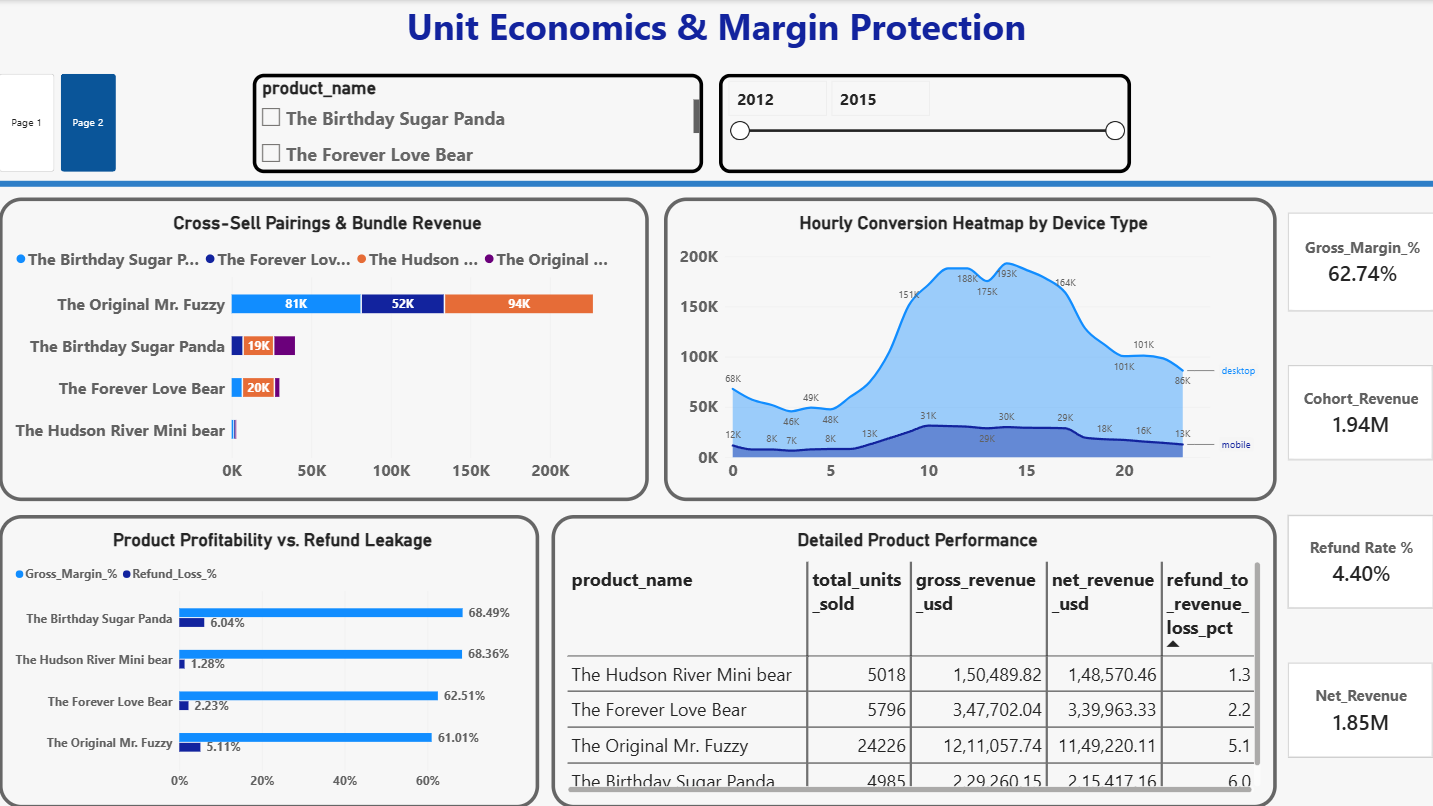

The page's visual inventory and layout, read from the dashboard file:
{"tool":"powerbi","page":{"name":"Page 2","canvas":[1920,1080],"ordinal":1},"visuals":[{"type":"cardVisual","fields":{"Data":["ALL_MEASURES.Refund_Leakage_%"]},"box":[1720.9,687.9,195.1,125.2],"z":0},{"type":"cardVisual","fields":{"Data":["ALL_MEASURES.Cohort_Revenue"]},"box":[1720.9,488.3,194.8,127.7],"z":1000},{"type":"cardVisual","fields":{"Data":["ALL_MEASURES.Net_Revenue"]},"box":[1721.5,885,194.8,127.7],"z":2000},{"type":"cardVisual","fields":{"Data":["ALL_MEASURES.Gross_Margin_%"]},"box":[1721.5,283.9,198.8,132.5],"z":3000},{"type":"clusteredBarChart","title":"Product Profitability vs. Refund Leakage","fields":{"Category":["vw_custom_product_refund_leakage.product_name"],"Y":["ALL_MEASURES.Gross_Margin_%","ALL_MEASURES.Refund_Loss_%"]},"box":[0,688.3,721.5,392],"z":4000},{"type":"tableEx","title":"Detailed Product Performance","fields":{"Values":["vw_custom_product_refund_leakage.product_name","vw_custom_product_refund_leakage.total_units_sold","vw_custom_product_refund_leakage.gross_revenue_usd","vw_custom_product_refund_leakage.net_revenue_usd","vw_custom_product_refund_leakage.refund_to_revenue_loss_pct"]},"box":[738,687.9,968.5,392.4],"z":5000},{"type":"areaChart","title":"Hourly Conversion Heatmap by Device Type","fields":{"Category":["vw_custom_hourly_conversion.session_hour"],"Series":["vw_custom_hourly_conversion.device_type"],"Y":["Sum(vw_custom_hourly_conversion.hourly_conversion_rate_pct)"]},"box":[888.3,263.8,818.2,405.8],"z":6000},{"type":"barChart","title":"Cross-Sell Pairings & Bundle Revenue","fields":{"Category":["vw_custom_cross_sell_matrix.primary_product"],"Series":["vw_custom_cross_sell_matrix.cross_sold_product"],"Y":["Sum(vw_custom_cross_sell_matrix.cross_sell_revenue_generated)"]},"box":[0,263.8,868.3,405.8],"z":7000},{"type":"textbox","box":[23.8,2.2,1869.8,77.9],"z":8000},{"type":"slicer","fields":{"Values":["dim_date.date_id.Variation.Date Hierarchy.Year"]},"box":[962.1,98.8,550.3,132.5],"z":9000},{"type":"slicer","fields":{"Values":["vw_dim_products.product_name"]},"box":[338.1,98.8,601.8,132.5],"z":10000},{"type":"pageNavigator","box":[0,98.5,157,131.9],"z":11000},{"type":"shape","box":[0,227.1,1919.6,36.8],"z":12000}]}

Visuals, with their boxes in screenshot pixels (x1, y1, x2, y2), scaled from the page's 1920x1080 canvas onto the 1433x806 screenshot:
cardVisual - ALL_MEASURES.Refund_Leakage_%: l=1284, t=513, r=1430, b=607
cardVisual - ALL_MEASURES.Cohort_Revenue: l=1284, t=364, r=1430, b=460
cardVisual - ALL_MEASURES.Net_Revenue: l=1285, t=660, r=1430, b=756
cardVisual - ALL_MEASURES.Gross_Margin_%: l=1285, t=212, r=1432, b=311
"Product Profitability vs. Refund Leakage" clusteredBarChart: l=0, t=514, r=538, b=805
"Detailed Product Performance" tableEx: l=551, t=513, r=1274, b=805
"Hourly Conversion Heatmap by Device Type" areaChart: l=663, t=197, r=1274, b=500
"Cross-Sell Pairings & Bundle Revenue" barChart: l=0, t=197, r=648, b=500
textbox: l=18, t=2, r=1413, b=60
slicer - dim_date.date_id.Variation.Date Hierarchy.Year: l=718, t=74, r=1129, b=173
slicer - vw_dim_products.product_name: l=252, t=74, r=701, b=173
pageNavigator: l=0, t=74, r=117, b=172
shape: l=0, t=169, r=1432, b=197
